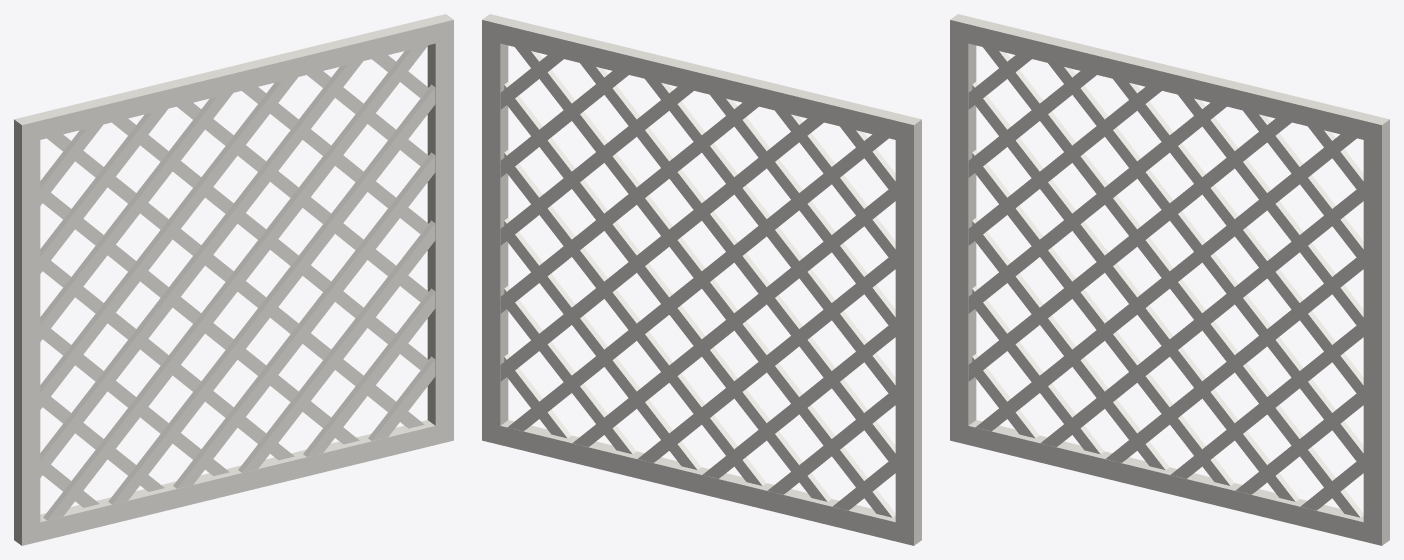
Rendered from FMS_Garden_Lattice_Panel.fbx.
3 renders of one model, left to right at view 1: azimuth 30°, elevation 25°; view 2: azimuth 150°, elevation 25°; view 3: azimuth 330°, elevation 25°, orthographic.
Parts seen in each view (by area): view 1: FMS_Garden_Lattice_Panel_Body; view 2: FMS_Garden_Lattice_Panel_Body; view 3: FMS_Garden_Lattice_Panel_Body.
Boxes of the visible parts, x1,y1,x2,y2 form: FMS_Garden_Lattice_Panel_Body: (14,14,453,545); FMS_Garden_Lattice_Panel_Body: (482,14,921,545); FMS_Garden_Lattice_Panel_Body: (950,14,1389,545).
Size of the model in its own units: 1.88 by 1.75 by 0.06.
